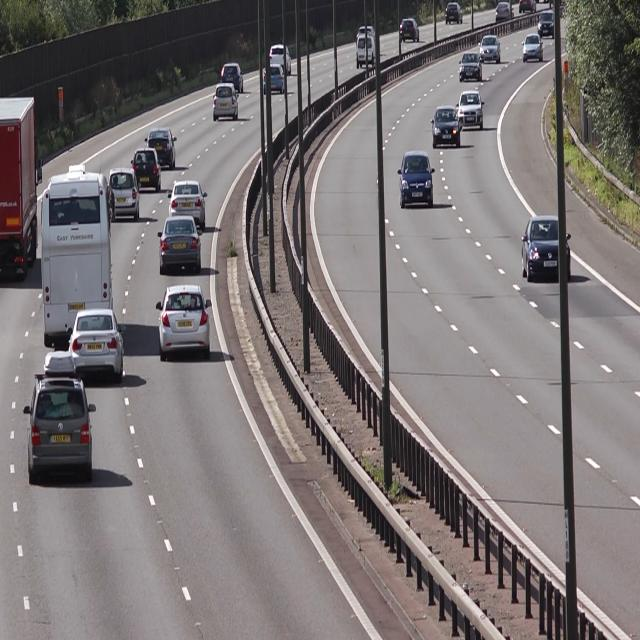Car: (40, 170, 116, 342), (23, 351, 94, 480), (0, 98, 45, 281), (70, 311, 124, 381), (522, 210, 573, 284), (157, 290, 209, 358), (158, 212, 204, 276), (169, 175, 209, 234), (398, 152, 434, 207), (110, 167, 140, 219), (131, 146, 162, 193), (211, 83, 242, 127), (146, 124, 176, 168), (433, 107, 462, 149), (458, 89, 484, 128), (268, 41, 294, 77), (459, 50, 484, 84), (262, 66, 288, 97), (398, 14, 422, 44), (480, 33, 501, 65), (223, 60, 245, 90), (358, 34, 378, 66), (523, 35, 544, 64), (444, 0, 466, 27)
